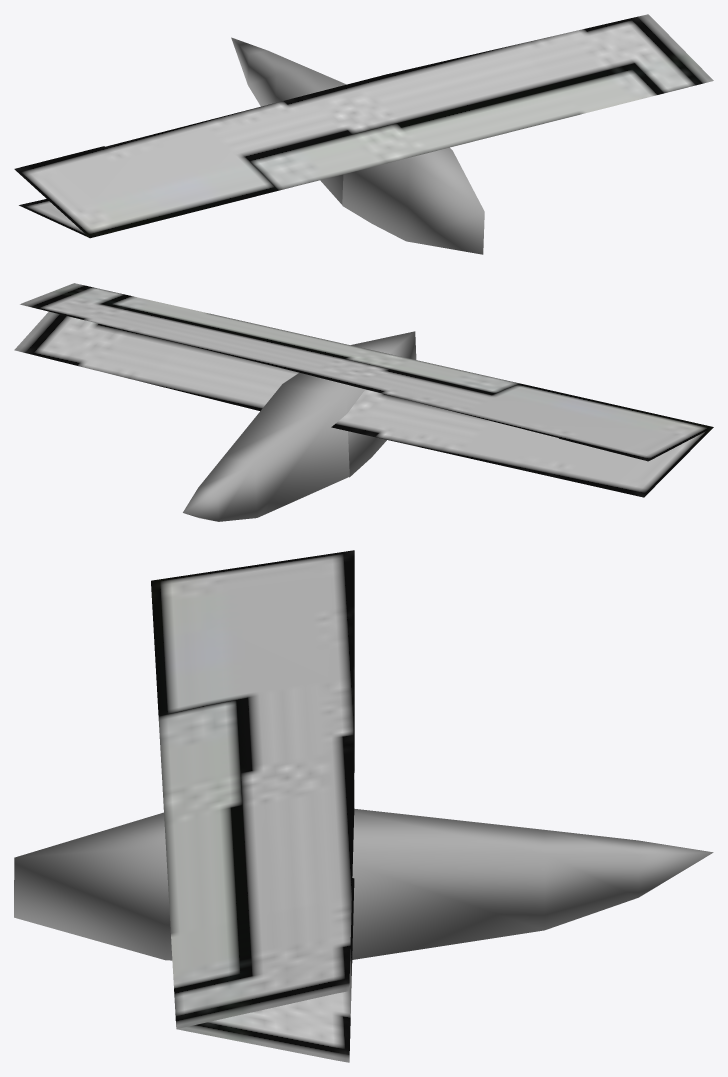
The model's file is leftInnerFlaps.dae.
3 renders of one model, top to bottom at view 1: azimuth 30°, elevation 25°; view 2: azimuth 150°, elevation 25°; view 3: azimuth 270°, elevation 25°, orthographic. The views are drawn at different scales.
Parts seen in each view (by area): view 1: group_0 (×3); view 2: group_0 (×4); view 3: group_0 (×4).
Boxes of the visible parts, x1,y1,x2,y2 form: group_0 (×3): (14, 14, 713, 254); group_0 (×4): (14, 283, 713, 521); group_0 (×4): (14, 550, 713, 1062).
Size of the model in its own units: 147 by 97.13 by 24.07.
2 materials, 1 textured.
